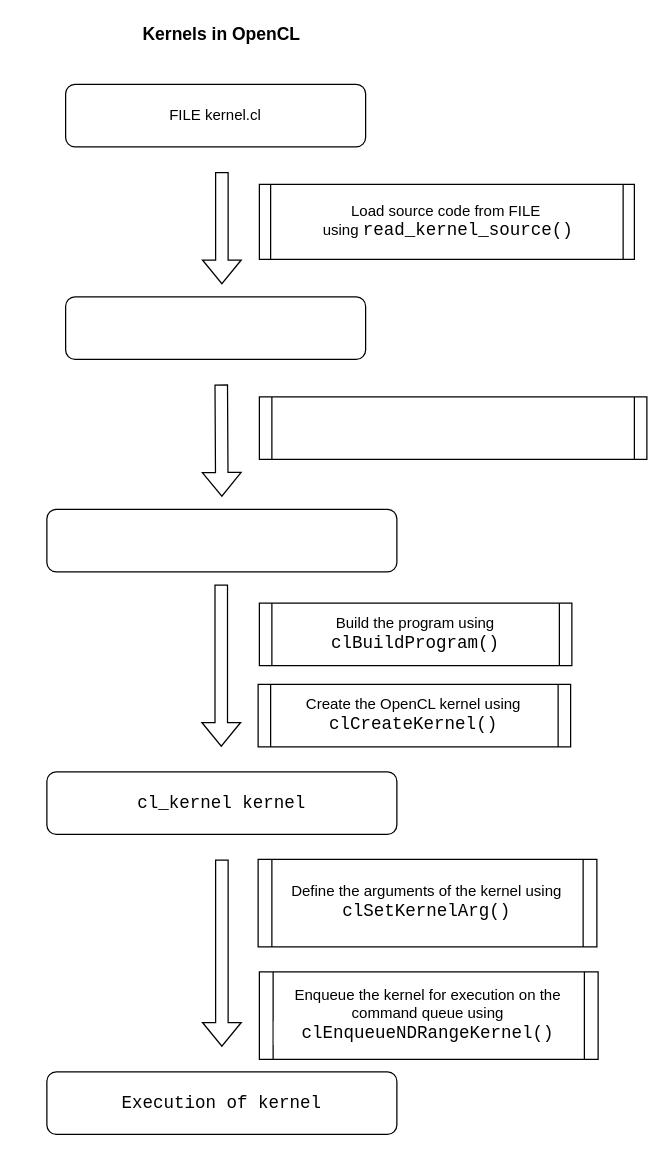
The diagram is 669 pixels wide and 1156 high, and some of its shapes have lost their labels. The shapes that lost their labels are listed below. From the top down, each one's centre as x and y in pixels, then its label:
At (x=215, y=327): "char * kernel_source".
At (x=452, y=427): "Create the program from the kernel_source using clCreateProgramWithSource()".
At (x=221, y=540): "cl_program program".
